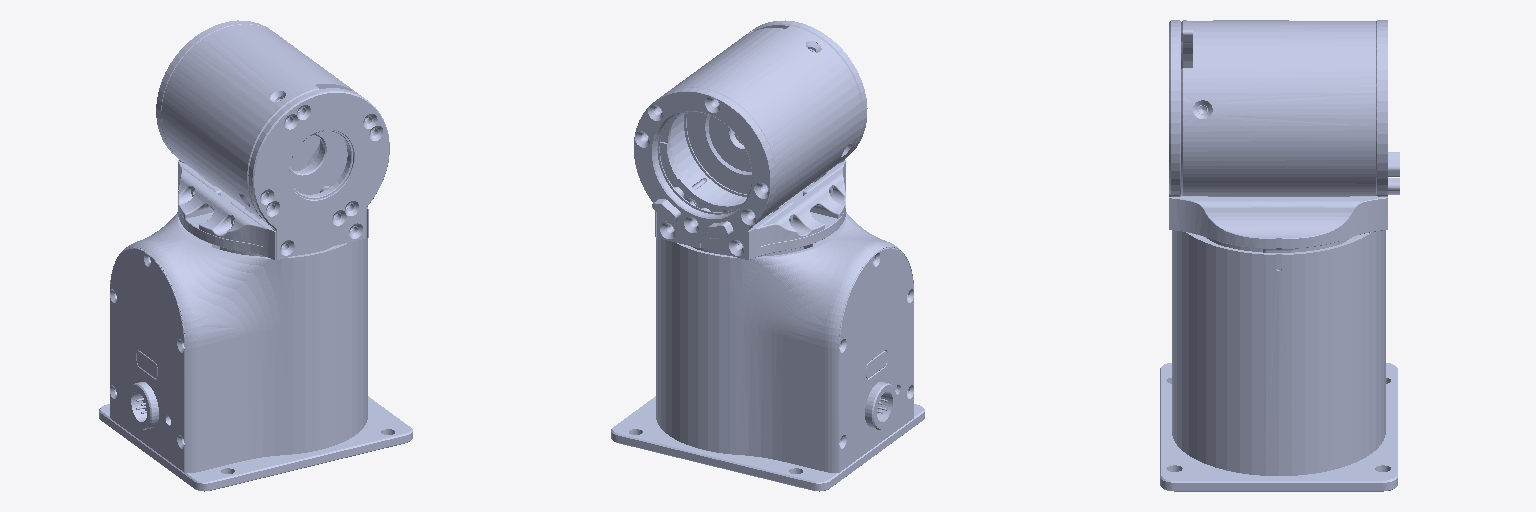
robot.urdf — piper_description:
<?xml version="1.0" encoding="utf-8"?>
<!-- This URDF was automatically created by SolidWorks to URDF Exporter! Originally created by [author] ([email redacted]) 
     Commit Version: 1.6.0-4-g7f85cfe  Build Version: 1.6.7995.38578
     For more information, please see http://wiki.ros.org/sw_urdf_exporter -->
<robot
  name="piper_description">
  <link
    name="base_link">
    <inertial>
      <origin
        xyz="-0.00973928490005031 1.83127089286717E-06 0.0410140167677137"
        rpy="0 0 0" />
      <mass
        value="0.0001" />
      <inertia
        ixx="0.000226592553127906"
        ixy="-7.33974356968615E-08"
        ixz="2.13221970218122E-06"
        iyy="0.000269447877479622"
        iyz="8.15167478682596E-09"
        izz="0.000222318286704" />
    </inertial>
    <visual>
      <origin
        xyz="0 0 0"
        rpy="1.5708 0 -1.5708" />
      <geometry>
        <mesh
          filename="package://piper_description/meshes/base_link.dae" />
      </geometry>
      <material
        name="">
        <color
          rgba="0.792156862745098 0.819607843137255 0.933333333333333 1" />
      </material>
    </visual>
    <collision>
      <origin
        xyz="0 0 0"
        rpy="0 0 0" />
      <geometry>
        <mesh
          filename="package://piper_description/meshes/base_link.STL" />
      </geometry>
    </collision>
  </link>
  <link
    name="link1">
    <inertial>
      <origin
        xyz="0.00131676031927021 0.000310288842008365 -0.00922874512303438"
        rpy="0 0 0" />
      <mass
        value="0.0001" />
      <inertia
        ixx="7.76684558296782E-05"
        ixy="1.09084650459916E-07"
        ixz="-1.97480532432411E-06"
        iyy="9.24967780161546E-05"
        iyz="9.91284646834672E-07"
        izz="8.24589062407806E-05" />
    </inertial>
    <visual>
      <origin
        xyz="0 0 0"
        rpy="1.5708 0 0" />
      <geometry>
        <mesh
          filename="package://piper_description/meshes/link1.dae" />
      </geometry>
      <material
        name="">
        <color
          rgba="0.792156862745098 0.819607843137255 0.933333333333333 1" />
      </material>
    </visual>
    <collision>
      <origin
        xyz="0 0 0"
        rpy="0 0 0" />
      <geometry>
        <mesh
          filename="package://piper_description/meshes/link1.STL" />
      </geometry>
    </collision>
  </link>
  <joint
    name="joint1"
    type="revolute">
    <origin
      xyz="0 0 0.123"
      rpy="0 0 -1.5708" />
    <parent
      link="base_link" />
    <child
      link="link1" />
    <axis
      xyz="0 0 1" />
    <limit
      lower="-2.618"
      upper="2.618"
      effort="100"
      velocity="3" />
  </joint>
  <link
    name="link2">
    <inertial>
      <origin
        xyz="0.147615838821413 -0.0174259998251394 0.00175952516190707"
        rpy="0 0 0" />
      <mass
        value="0.0001" />
      <inertia
        ixx="0.000150112628108228"
        ixy="8.58974959950769E-05"
        ixz="-1.07428153464284E-06"
        iyy="0.00172585302855383"
        iyz="-9.93704792239676E-07"
        izz="0.00177445942914759" />
    </inertial>
    <visual>
      <origin
        xyz="0 0 0"
        rpy="0 1.5708 -0.0873" />
      <geometry>
        <mesh
          filename="package://piper_description/meshes/link2.dae" />
      </geometry>
      <material
        name="">
        <color
          rgba="0.792156862745098 0.819607843137255 0.933333333333333 1" />
      </material>
    </visual>
    <collision>
      <origin
        xyz="0 0 0"
        rpy="0 0 0" />
      <geometry>
        <mesh
          filename="package://piper_description/meshes/link2.STL" />
      </geometry>
    </collision>
  </link>
  <joint
    name="joint2"
    type="revolute">
    <origin
      xyz="0 0 0"
      rpy="1.5708 -0.10095 -1.5708" />
    <parent
      link="link1" />
    <child
      link="link2" />
    <axis
      xyz="0 0 1" />
    <limit
      lower="0"
      upper="3.14"
      effort="100"
      velocity="3" />
  </joint>
  <link
    name="link3">
    <inertial>
      <origin
        xyz="0.0156727239770991 0.104466514402189 0.000508486576356504"
        rpy="0 0 0" />
      <mass
        value="0.0001" />
      <inertia
        ixx="0.00022168634302318"
        ixy="-7.57426147001315E-06"
        ixz="-6.36999759250492E-07"
        iyy="0.000100859159512329"
        iyz="-8.16199264787698E-07"
        izz="0.000241839306422341" />
    </inertial>
    <visual>
      <origin
        xyz="0 0 0"
        rpy="1.4835 1.5708 0" />
      <geometry>
        <mesh
          filename="package://piper_description/meshes/link3.dae" />
      </geometry>
      <material
        name="">
        <color
          rgba="0.792156862745098 0.819607843137255 0.933333333333333 1" />
      </material>
    </visual>
    <collision>
      <origin
        xyz="0 0 0"
        rpy="0 0 0" />
      <geometry>
        <mesh
          filename="package://piper_description/meshes/link3.STL" />
      </geometry>
    </collision>
  </link>
  <joint
    name="joint3"
    type="revolute">
    <origin
      xyz="0.28503 0 0"
      rpy="0 0 1.3826" />
    <parent
      link="link2" />
    <child
      link="link3" />
    <axis
      xyz="0 0 1" />
    <limit
      lower="-2.697"
      upper="0"
      effort="100"
      velocity="3" />
  </joint>
  <link
    name="link4">
    <inertial>
      <origin
        xyz="0.000276464622388145 -0.00102803669324856 -0.00472830700561582"
        rpy="0 0 0" />
      <mass
        value="0.0001" />
      <inertia
        ixx="3.82011730423392E-05"
        ixy="-4.92358350916331E-08"
        ixz="4.89589432971791E-08"
        iyy="4.87048555222583E-05"
        iyz="6.70802942501353E-08"
        izz="4.10592077565539E-05" />
    </inertial>
    <visual>
      <origin
        xyz="0 0 0"
        rpy="1.48 0 1.5708" />
      <geometry>
        <mesh
          filename="package://piper_description/meshes/link4.dae" />
      </geometry>
      <material
        name="">
        <color
          rgba="0.792156862745098 0.819607843137255 0.933333333333333 1" />
      </material>
    </visual>
    <collision>
      <origin
        xyz="0 0 0"
        rpy="0 0 0" />
      <geometry>
        <mesh
          filename="package://piper_description/meshes/link4.STL" />
      </geometry>
    </collision>
  </link>
  <joint
    name="joint4"
    type="revolute">
    <origin
      xyz="0.021984 0.25075 0"
      rpy="-1.5708 0 0" />
    <parent
      link="link3" />
    <child
      link="link4" />
    <axis
      xyz="0 0 1" />
    <limit
      lower="-1.832"
      upper="1.832"
      effort="100"
      velocity="3" />
  </joint>
  <link
    name="link5">
    <inertial>
      <origin
        xyz="8.82262433637704E-05 0.0566829014808264 -0.00196119720482555"
        rpy="0 0 0" />
      <mass
        value="0.0001" />
      <inertia
        ixx="4.39644313661978E-05"
        ixy="-3.59259686449865E-08"
        ixz="-1.89747741592145E-08"
        iyy="5.6317392095077E-05"
        iyz="-2.1540716689678E-07"
        izz="4.88713664675246E-05" />
    </inertial>
    <visual>
      <origin
        xyz="0 0 0"
        rpy="1.5 1.5708 0" />
      <geometry>
        <mesh
          filename="package://piper_description/meshes/link5.dae" />
      </geometry>
      <material
        name="">
        <color
          rgba="0.792156862745098 0.819607843137255 0.933333333333333 1" />
      </material>
    </visual>
    <collision>
      <origin
        xyz="0 0 0"
        rpy="0 0 0" />
      <geometry>
        <mesh
          filename="package://piper_description/meshes/link5.STL" />
      </geometry>
    </collision>
  </link>
  <joint
    name="joint5"
    type="revolute">
    <origin
      xyz="0 0 0"
      rpy="1.5708 0 0" />
    <parent
      link="link4" />
    <child
      link="link5" />
    <axis
      xyz="0 0 1" />
    <limit
      lower="-1.22"
      upper="1.22"
      effort="100"
      velocity="3" />
  </joint>

</robot>

--- What the picture shows (computed from the rendered views, not written in the file) ---
3 views of the same robot in one strip: view 1: azimuth 30°, elevation 25°; view 2: azimuth 150°, elevation 25°; view 3: azimuth 270°, elevation 25° (orthographic).
Model piper_description with 6 links and 5 joints (5 revolute), rooted at base_link, posed all joints at 0.
Links seen in each view (by area): view 1: base_link, link1; view 2: base_link, link1; view 3: base_link, link1.
Boxes of the visible links, x1,y1,x2,y2 form: base_link: [99, 212, 412, 491]; link1: [156, 20, 389, 259]; base_link: [611, 212, 924, 491]; link1: [634, 20, 867, 259]; base_link: [1160, 230, 1397, 491]; link1: [1169, 20, 1399, 252].
Bounding box of the posed robot: 0.0985 × 0.0808 × 0.153 m (x, y, z).
2 mesh visuals loaded from 6 distinct referenced files (2 Collada DAE); not drawn: 4 (reference not matched to a file when rendering).